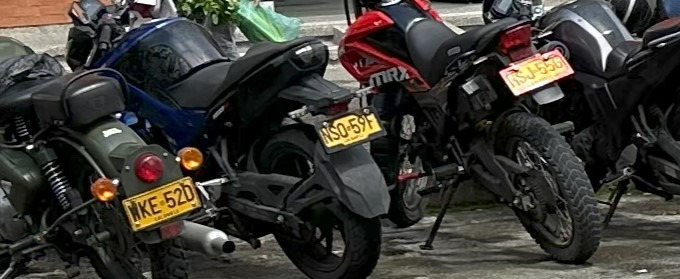number plate: (122, 177, 200, 231), (499, 50, 573, 95), (315, 107, 382, 152)
